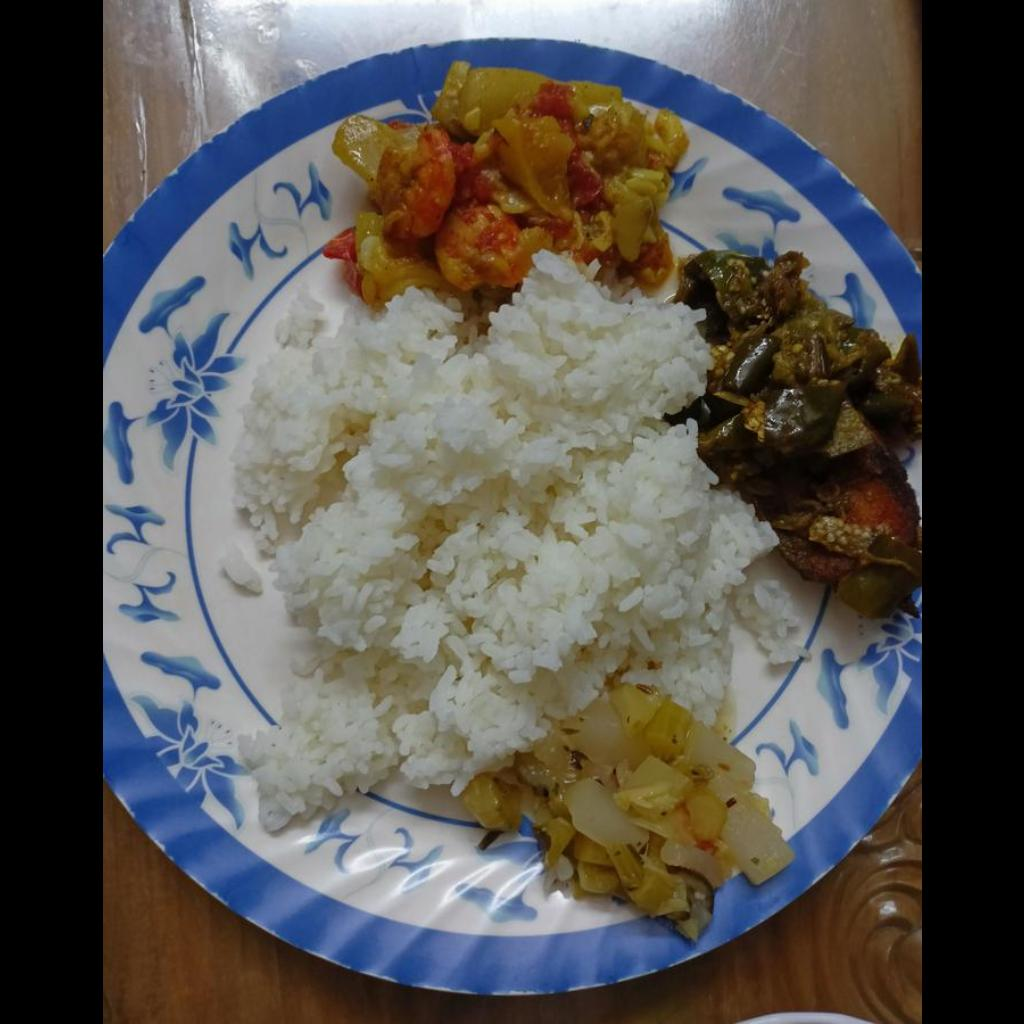fish: (688, 238, 920, 580)
rice: (232, 265, 800, 836)
vaji: (473, 693, 803, 942)
vegetable: (324, 60, 687, 302)
